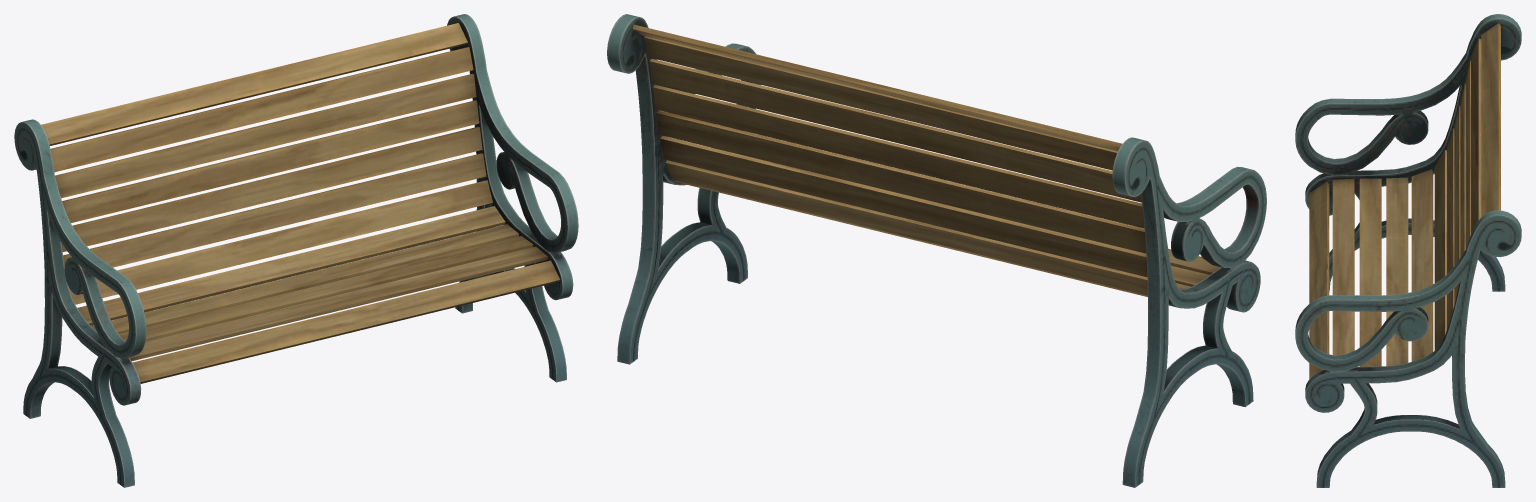
Rendered from sb_obj_outdoor042_bench.fbx.
3 renders of one model, left to right at view 1: azimuth 30°, elevation 25°; view 2: azimuth 150°, elevation 25°; view 3: azimuth 270°, elevation 25°, orthographic. The views are drawn at different scales.
Visible parts, largest first — view 1: sb_obj_outdoor042_bench; view 2: sb_obj_outdoor042_bench; view 3: sb_obj_outdoor042_bench.
Part boxes in pixels (x1=…): sb_obj_outdoor042_bench: x1=14, y1=14, x2=578, y2=487; sb_obj_outdoor042_bench: x1=607, y1=14, x2=1266, y2=487; sb_obj_outdoor042_bench: x1=1295, y1=14, x2=1521, y2=487.
Size of the model in its own units: 1.62 by 1.02 by 0.7691.
